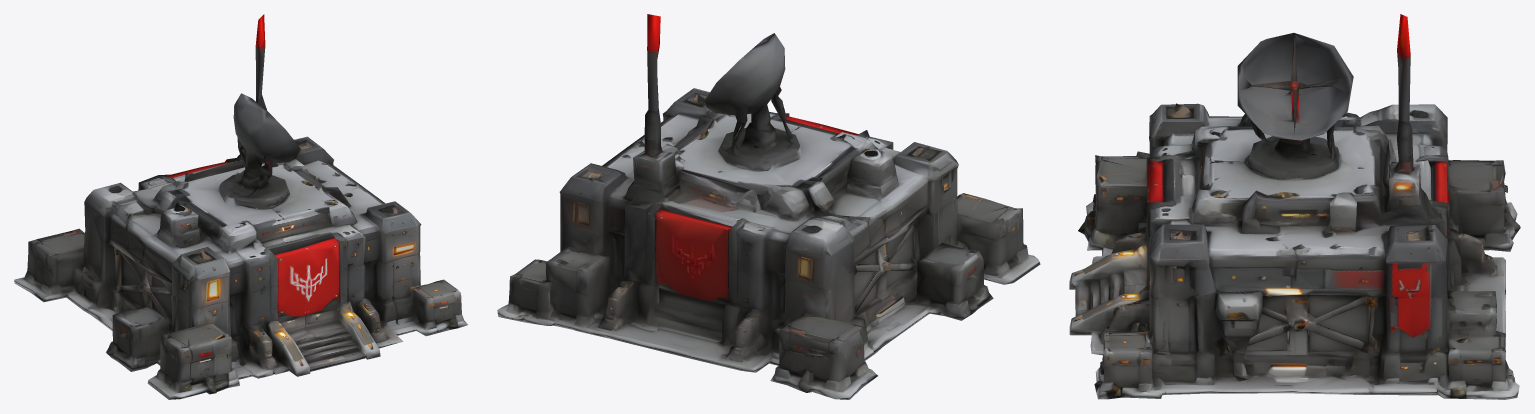
Rendered from tripo_convert_a9f62b5d-b2a2-4d17-aaf8-70c43aba6820.fbx.
3 views of the same model, side by side, from view 1: azimuth 30°, elevation 25°; view 2: azimuth 150°, elevation 25°; view 3: azimuth 270°, elevation 25° (orthographic). The views are drawn at different scales.
Parts seen in each view (by area): view 1: tripo_node_a9f62b5d; view 2: tripo_node_a9f62b5d; view 3: tripo_node_a9f62b5d.
Boxes of the visible parts, x1,y1,x2,y2 form: tripo_node_a9f62b5d: [14, 14, 467, 399]; tripo_node_a9f62b5d: [497, 14, 1040, 399]; tripo_node_a9f62b5d: [1069, 14, 1520, 399].
Size of the model in its own units: 1 by 0.7781 by 0.9719.
1 material, 1 textured.
